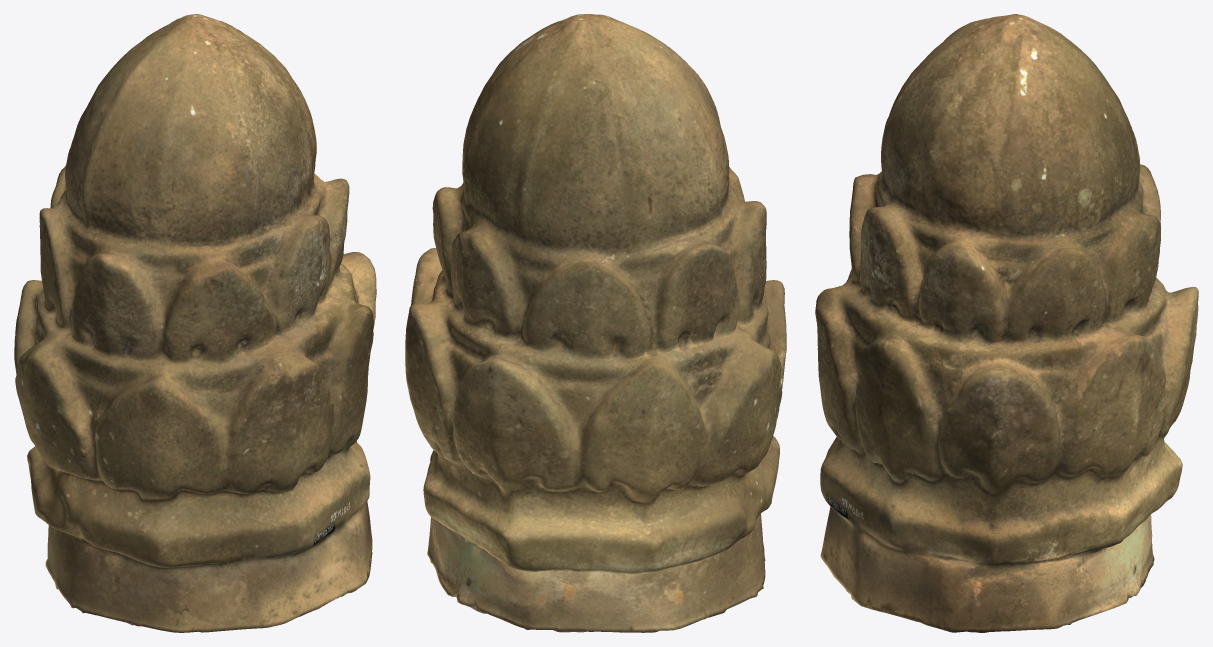
Rendered from 12_MysonSanctuaryD2_ChopThap_final.glb.
3 renders of one model, left to right at view 1: azimuth 30°, elevation 25°; view 2: azimuth 150°, elevation 25°; view 3: azimuth 270°, elevation 25°, orthographic. The views are drawn at different scales.
Bounding box in the file's own units: 0.3664 × 0.5582 × 0.3534.
Materials: 1 (1 with a texture image).
